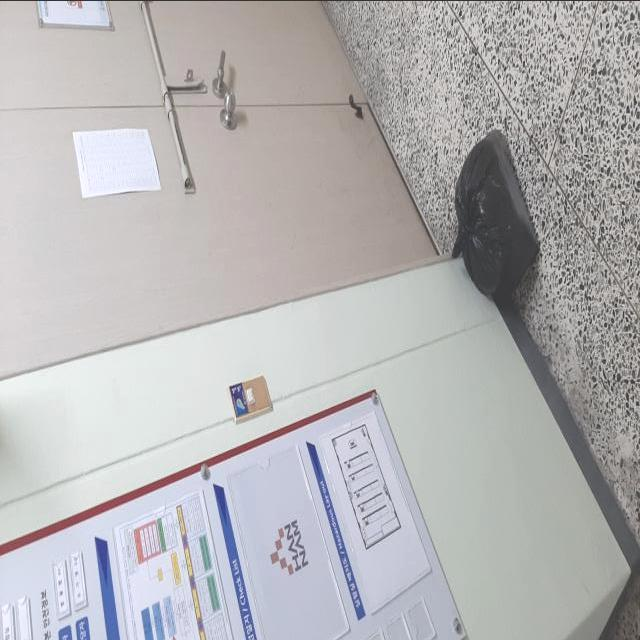black_bag: (450, 126, 538, 326)
